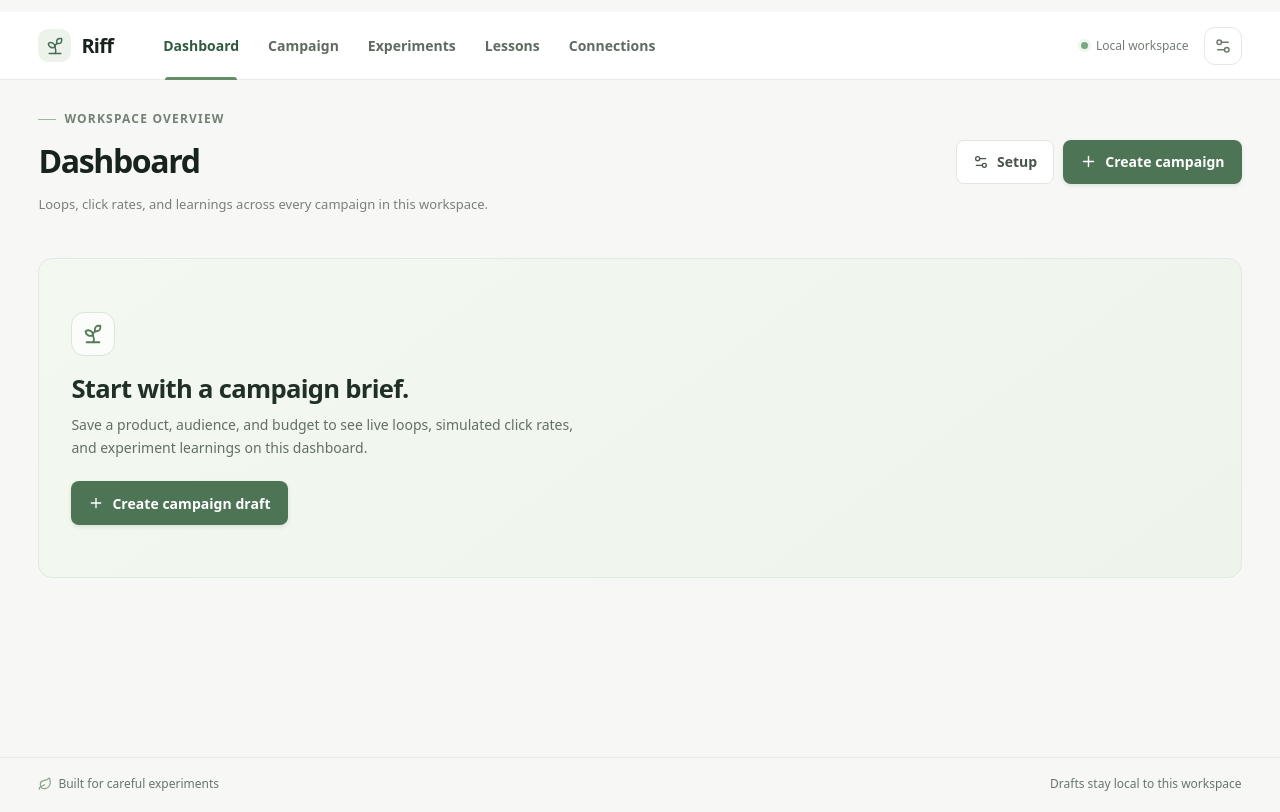
Test: Riff dashboard › reveals required setting names only after the user opens the details
Click the button "Connections".
click(612, 46)  # box x1=557 y1=12 x2=667 y2=79
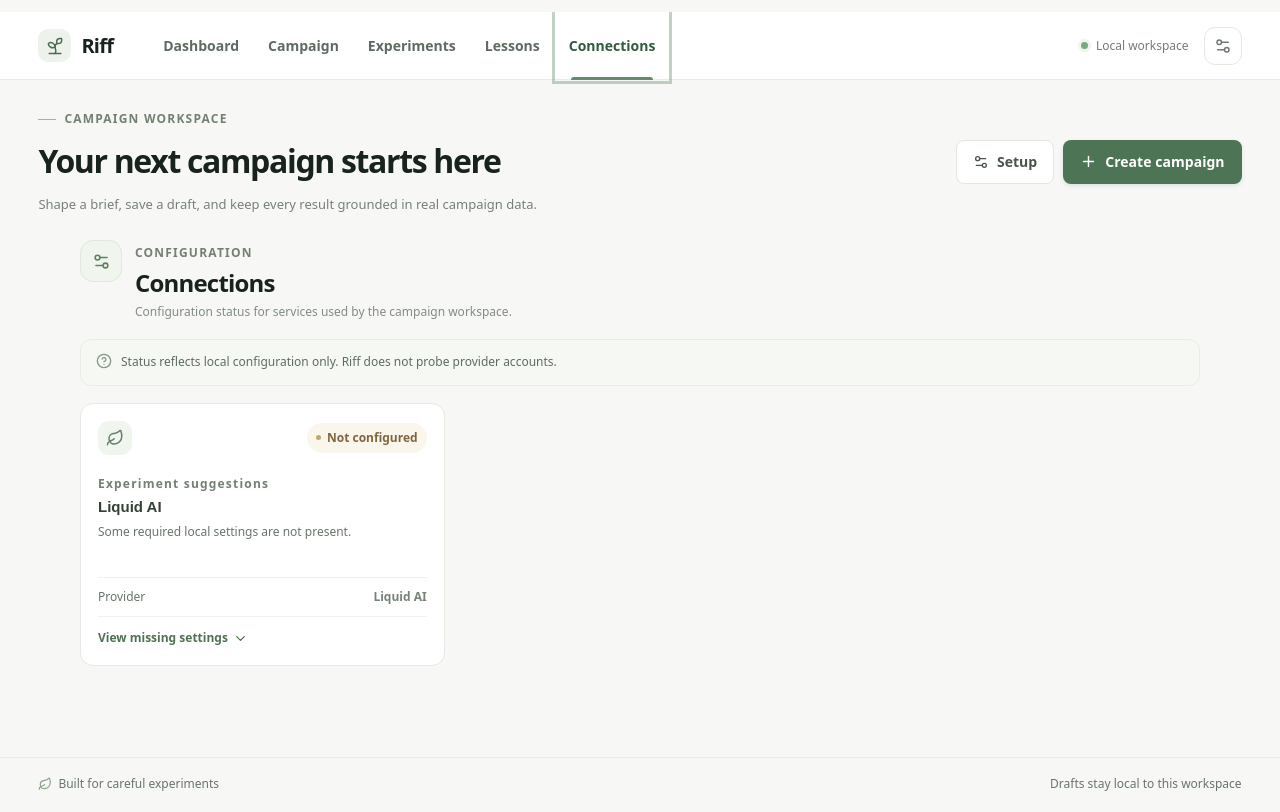
Check: the text "LIQUID_BASE_URL" is not shown
Check: the text "Some required local settings are not present." is shown, box x1=98 y1=523 x2=351 y2=540
Click the button "View missing settings".
click(173, 638)  # box x1=98 y1=626 x2=248 y2=650
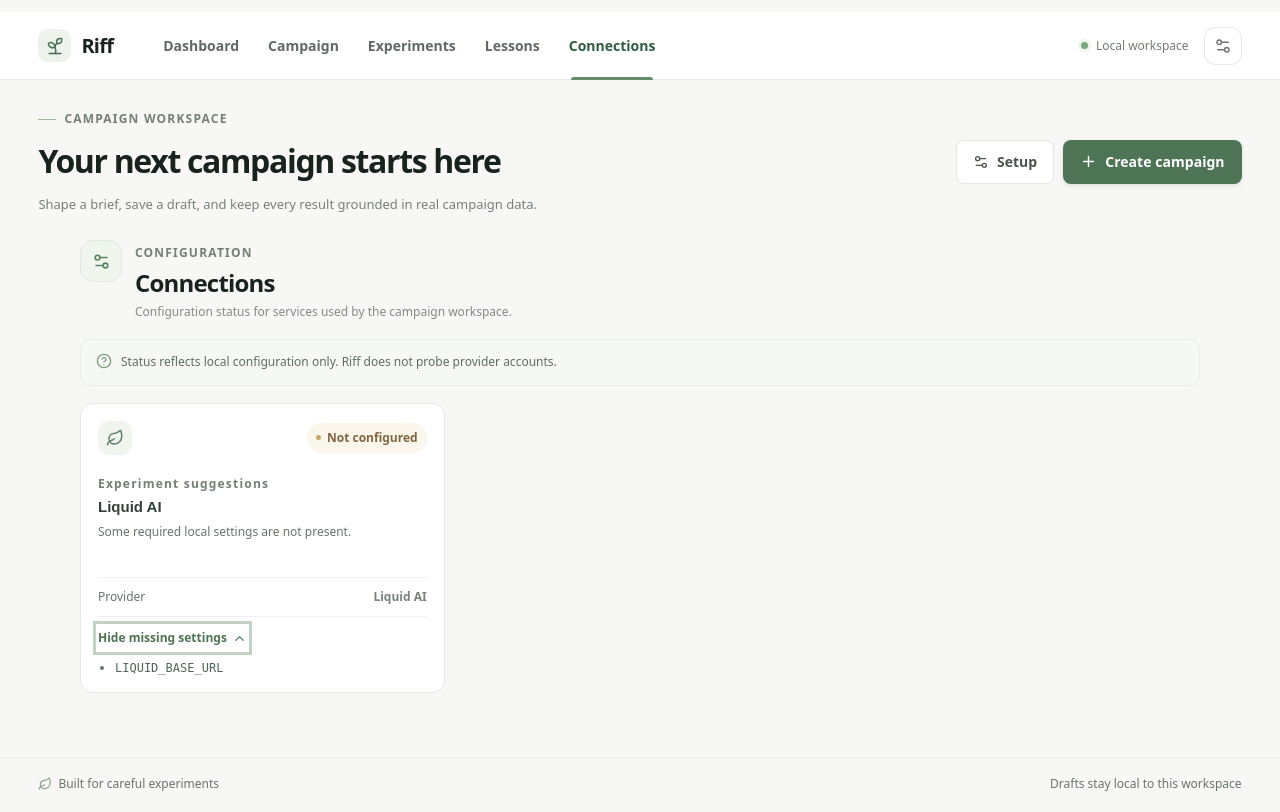
Check: the text "LIQUID_BASE_URL" is shown, box x1=115 y1=661 x2=223 y2=675
